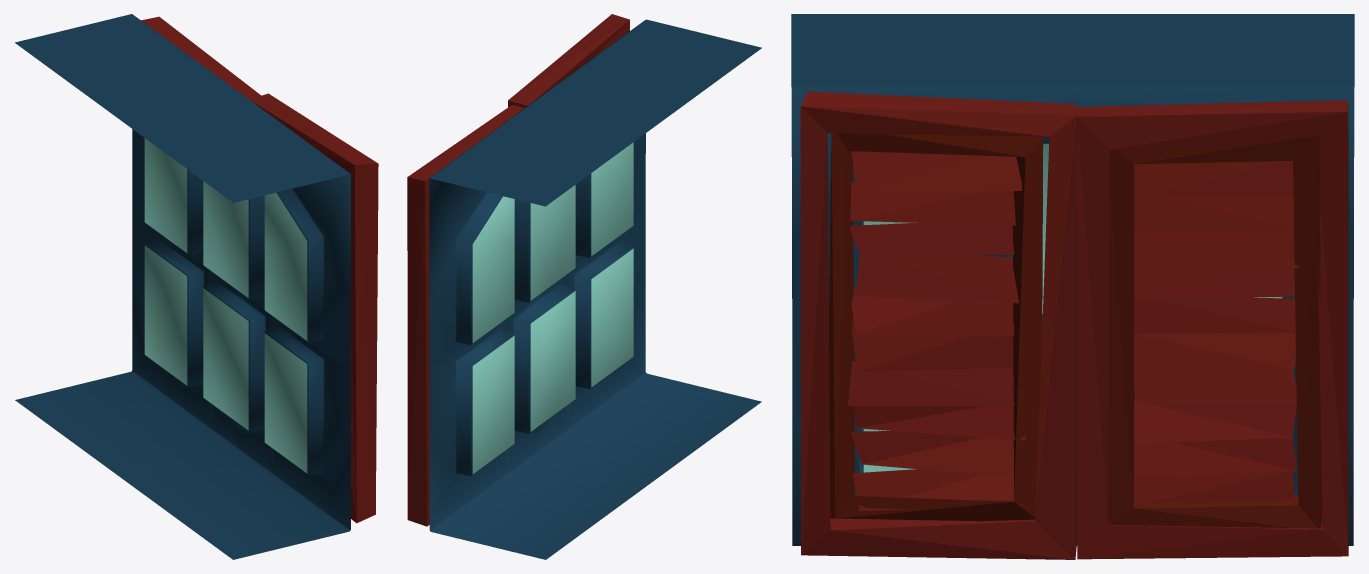
File: Shutters_Closed.fbx
3 renders of one model, left to right at view 1: azimuth 30°, elevation 25°; view 2: azimuth 150°, elevation 25°; view 3: azimuth 270°, elevation 25°, orthographic. The views are drawn at different scales.
Visible parts, largest first — view 1: Window_6Pane, Shutter_Right, Shutter_Left; view 2: Window_6Pane, Shutter_Left, Shutter_Right; view 3: Shutter_Right, Shutter_Left, Window_6Pane.
Boxes of the visible parts, left/top/right/bottom form: Window_6Pane: left=15, top=14, right=350, bottom=559; Shutter_Right: left=249, top=93, right=378, bottom=523; Shutter_Left: left=141, top=16, right=260, bottom=99; Window_6Pane: left=429, top=19, right=761, bottom=559; Shutter_Left: left=407, top=105, right=524, bottom=526; Shutter_Right: left=508, top=14, right=629, bottom=107; Shutter_Right: left=800, top=91, right=1077, bottom=559; Shutter_Left: left=1076, top=100, right=1348, bottom=559; Window_6Pane: left=791, top=14, right=1354, bottom=545.
Size of the model in its own units: 0.7198 by 1.8 by 1.63.
